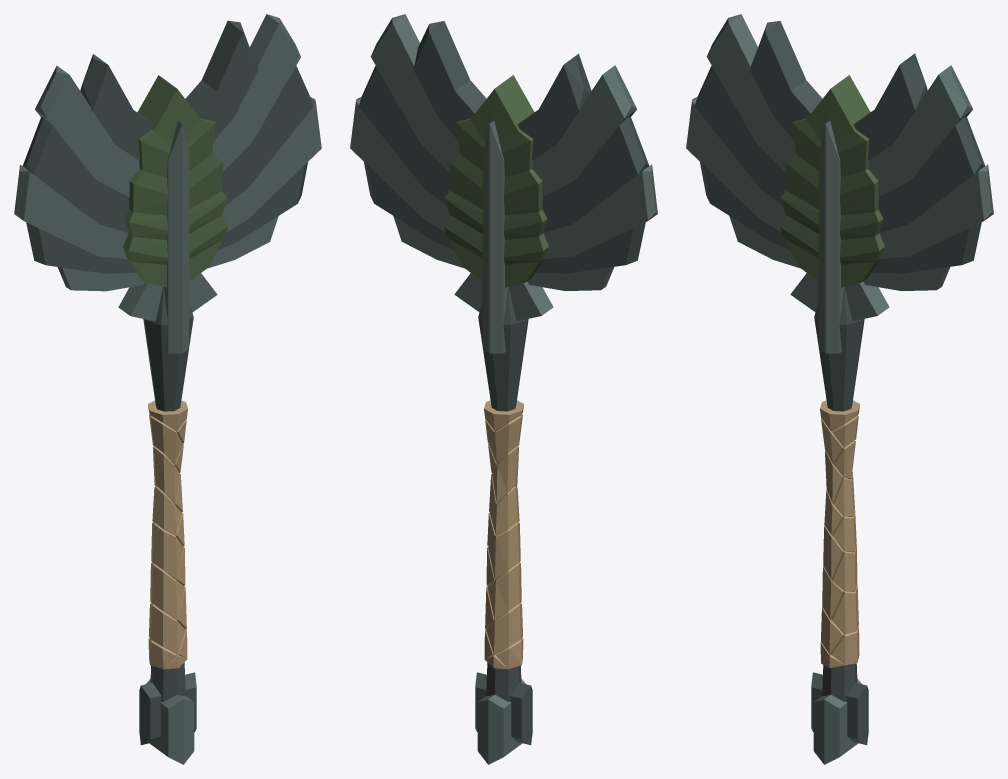
The model's file is hammer_hammer_22.glb.
3 views of the same model, side by side, from view 1: azimuth 30°, elevation 25°; view 2: azimuth 150°, elevation 25°; view 3: azimuth 330°, elevation 25° (orthographic).
Visible parts, largest first — view 1: hammer_22; view 2: hammer_22; view 3: hammer_22.
Part boxes in pixels (x1,y1,x2,y2): hammer_22: (14,14,321,764); hammer_22: (350,14,657,764); hammer_22: (686,14,993,764).
Bounding box in the file's own units: 35.63 × 80 × 6.37.
Materials: 1 (1 with a texture image).
